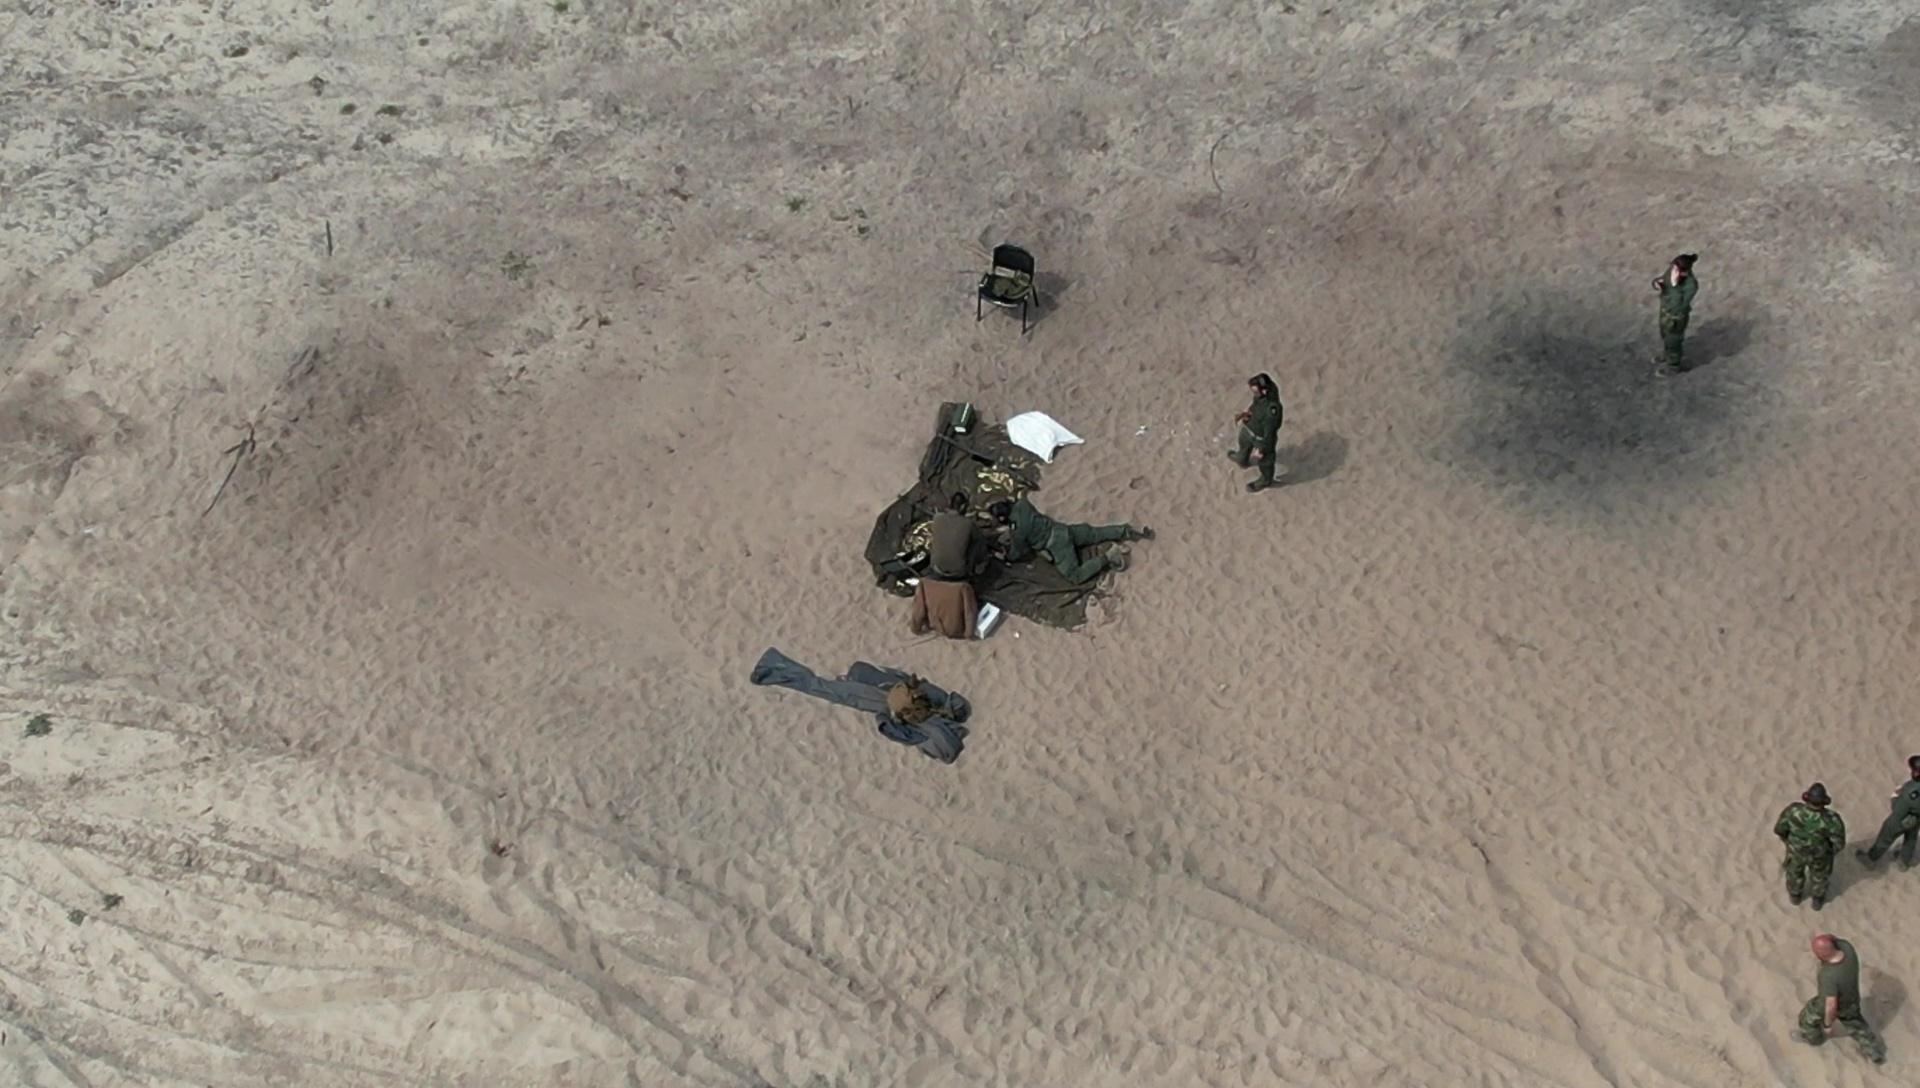Soldier: (982, 485, 1178, 601), (1792, 926, 1890, 1068), (1778, 768, 1857, 921), (1644, 240, 1710, 394), (1226, 365, 1294, 513), (919, 484, 996, 596), (1874, 740, 1920, 886)
